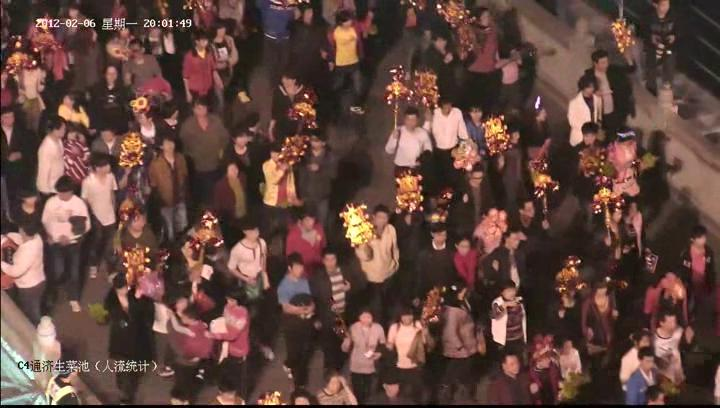person: (228, 224, 280, 358), (155, 291, 211, 408), (276, 252, 324, 387), (435, 276, 486, 403), (284, 2, 342, 112), (77, 151, 123, 288), (100, 275, 146, 408), (276, 252, 317, 394), (640, 2, 693, 109), (45, 179, 87, 314), (0, 214, 49, 325), (354, 205, 404, 310), (383, 307, 434, 408), (342, 306, 390, 408), (313, 246, 352, 370), (213, 286, 252, 408), (183, 96, 233, 188), (330, 12, 372, 120), (459, 4, 498, 117), (151, 135, 193, 239), (654, 311, 703, 398), (272, 71, 323, 153), (605, 199, 653, 284), (379, 105, 430, 184), (426, 91, 475, 173), (588, 51, 636, 133), (576, 279, 619, 367), (484, 278, 535, 352), (676, 227, 720, 311), (263, 146, 303, 237), (513, 196, 555, 274), (208, 159, 254, 230), (183, 32, 224, 111), (463, 101, 505, 177), (616, 349, 670, 408), (125, 38, 171, 107), (481, 231, 530, 295), (209, 18, 243, 109), (0, 112, 31, 209), (480, 354, 533, 408), (88, 59, 130, 127), (566, 75, 609, 139), (416, 221, 456, 289), (14, 54, 50, 129), (420, 28, 461, 93), (36, 116, 75, 183), (69, 24, 107, 92), (497, 45, 535, 109), (525, 343, 561, 408), (286, 205, 328, 260), (559, 336, 589, 402), (14, 182, 46, 235), (452, 232, 480, 284), (226, 125, 254, 163), (0, 62, 15, 111)
